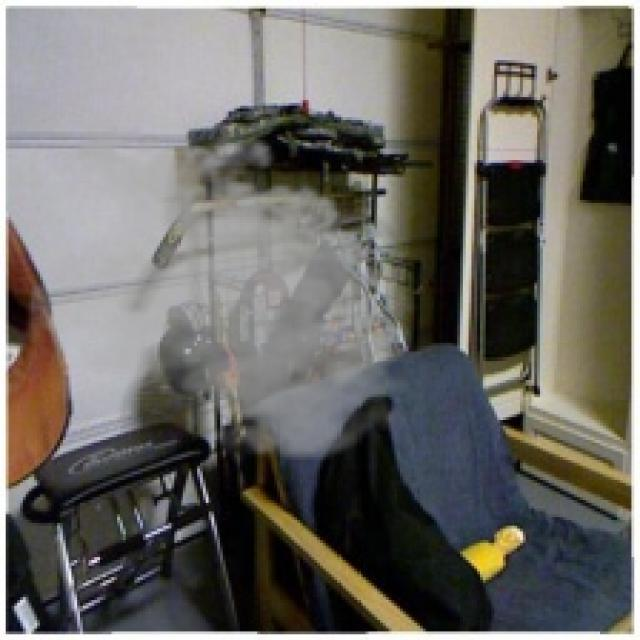Smoke: (26, 114, 426, 469)
